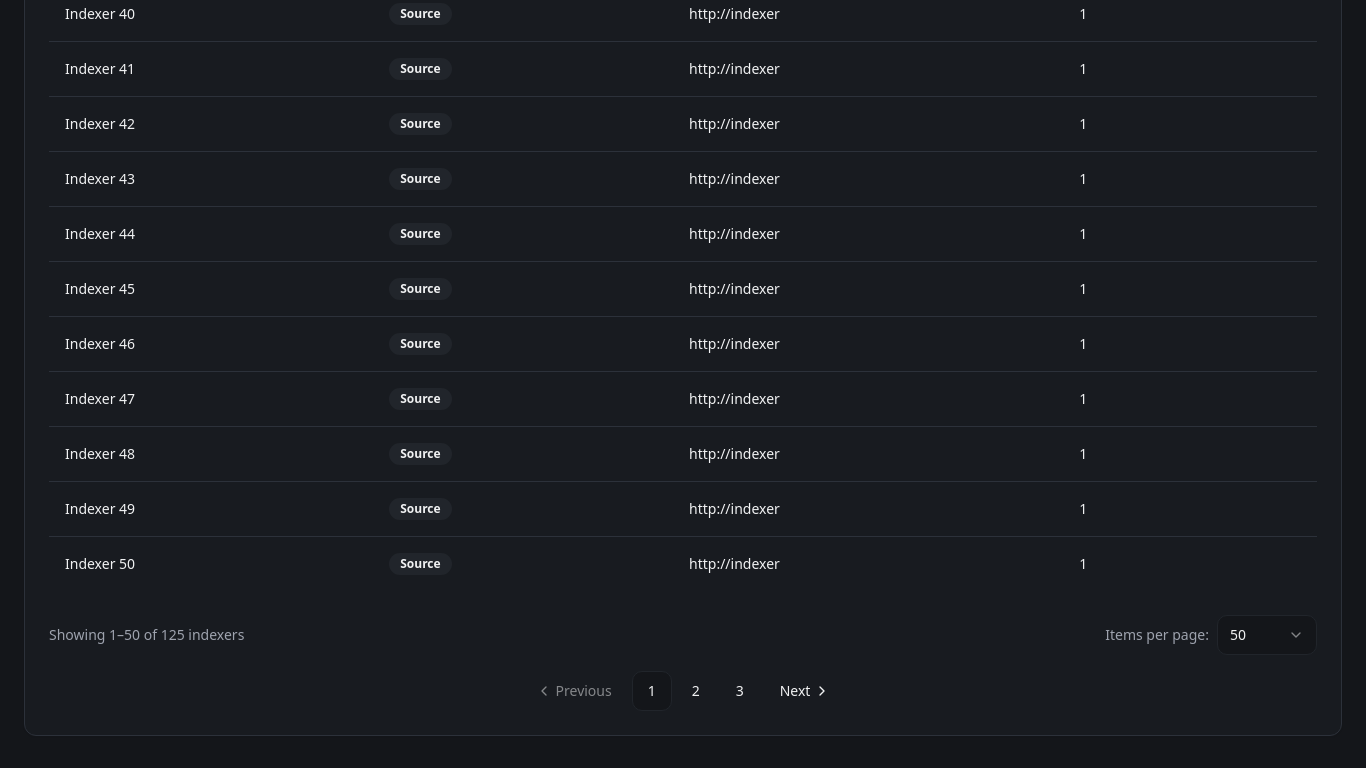
Test: configuration pagination › pages indexers by 50 and loads the 125-source catalog in two pages of 100
(page scrolled)
Expected: the text "Showing 1–50 of 125 indexers" is shown, [49,625,244,645]
Expected: the text "Indexer 51" is not shown
What coordinates should you click on to do the following:
click the button "Next"
I would click on:
 (802, 691)
Its box is [764,671,840,711].
(page scrolled)
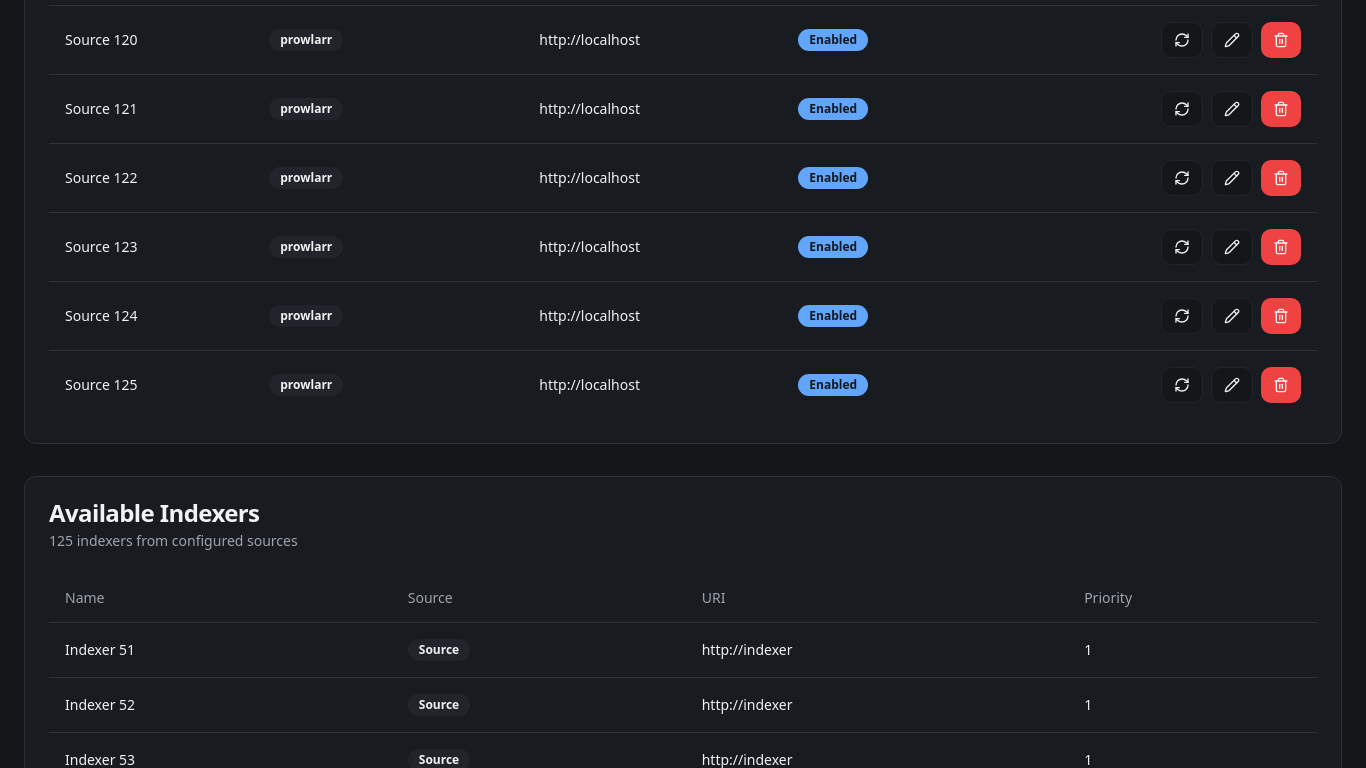
Expected: the text "Source 125" is shown, [49,350,253,418]
Expected: the text "Indexer 51" is shown, [49,622,392,678]
